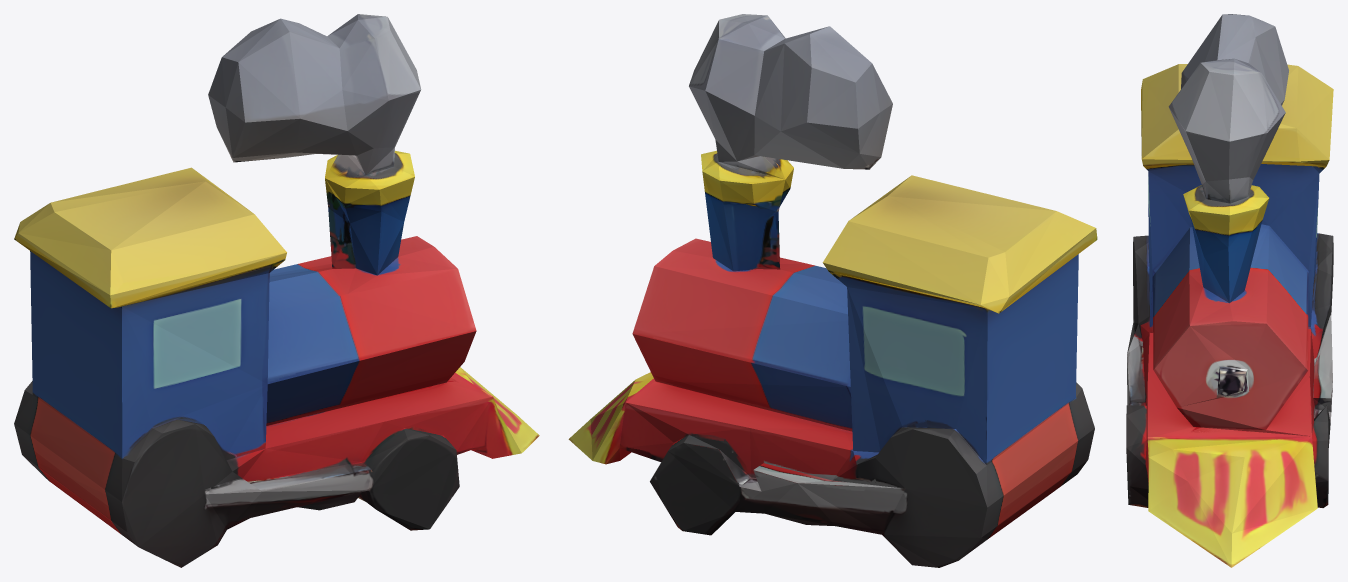
3 views of the same model, side by side, from view 1: azimuth 30°, elevation 25°; view 2: azimuth 150°, elevation 25°; view 3: azimuth 270°, elevation 25° (orthographic). The views are drawn at different scales.
Parts seen in each view (by area): view 1: Figure; view 2: Figure; view 3: Figure.
Boxes of the visible parts, <box> form: Figure: <box>14,14,539,567</box>; Figure: <box>568,14,1097,567</box>; Figure: <box>1126,14,1333,567</box>.
Size of the model in its own units: 0.3734 by 0.3603 by 0.15.
1 material, 1 textured.
